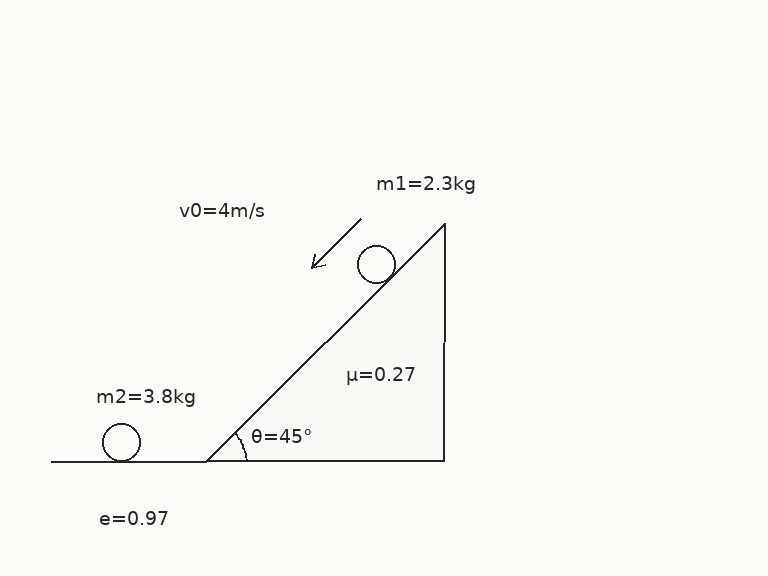ball: (355, 243, 397, 285), (100, 421, 142, 463)
ramp: (204, 221, 446, 463)
